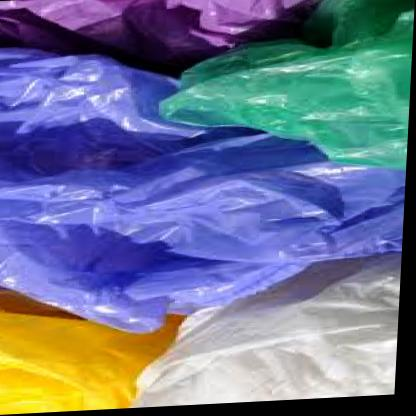Plastic: (0, 38, 171, 327), (170, 149, 401, 308), (184, 0, 416, 144), (163, 303, 403, 404), (0, 312, 149, 416), (1, 0, 178, 43)
